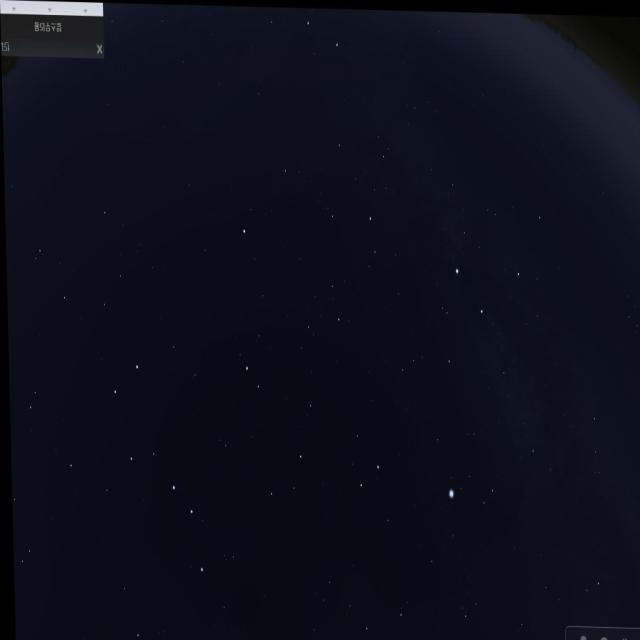cygnus: (434, 258, 546, 460)
lyra: (436, 455, 500, 528)
ursa_major: (109, 366, 211, 592)
